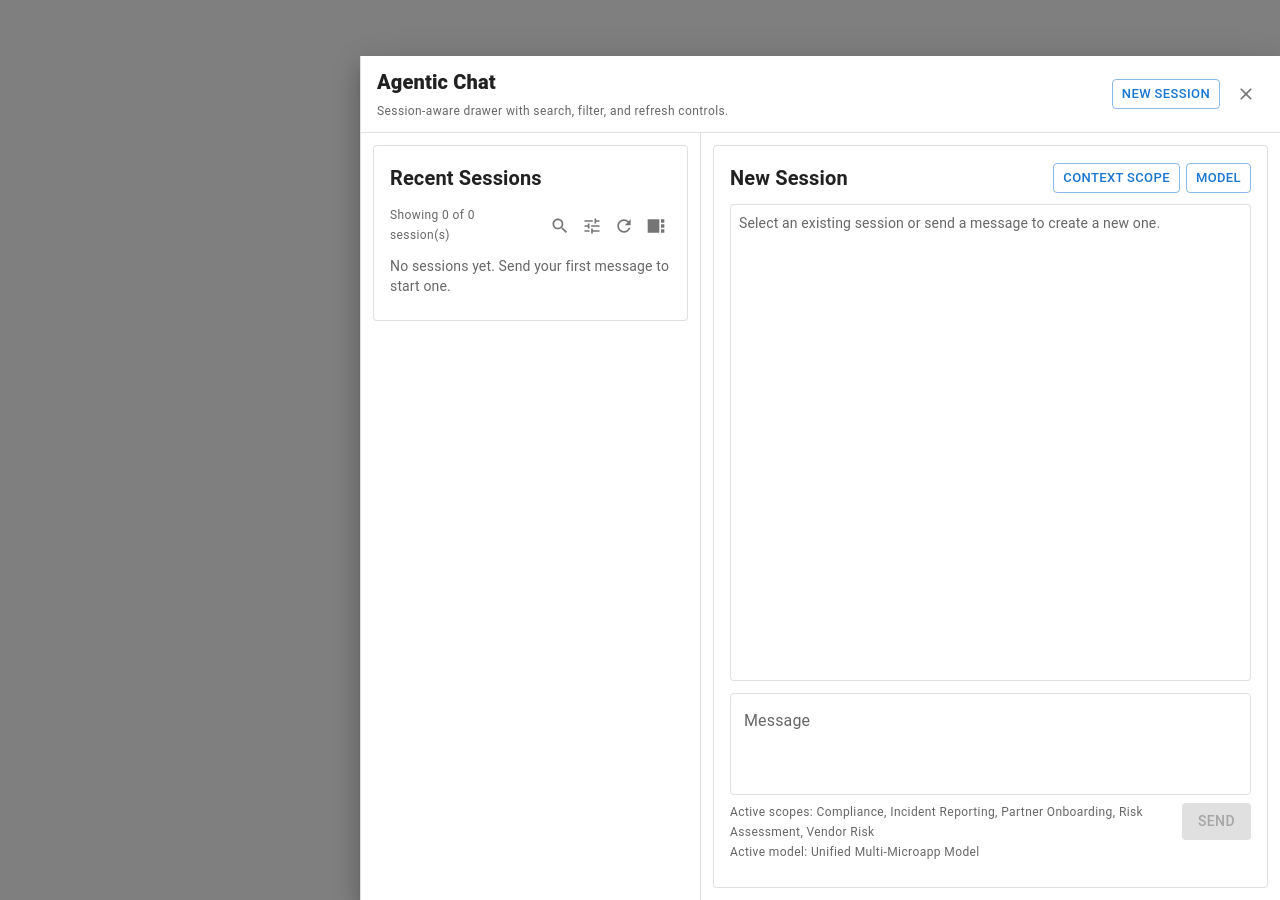
it: AgenticChatPage › hides and restores the recent sessions sidebar
Expected: the heading "Recent Sessions" is shown, [390,162,542,194]
Click the button named "hide recent sessions sidebar". click: (656, 226)
box: [641,211,671,241]
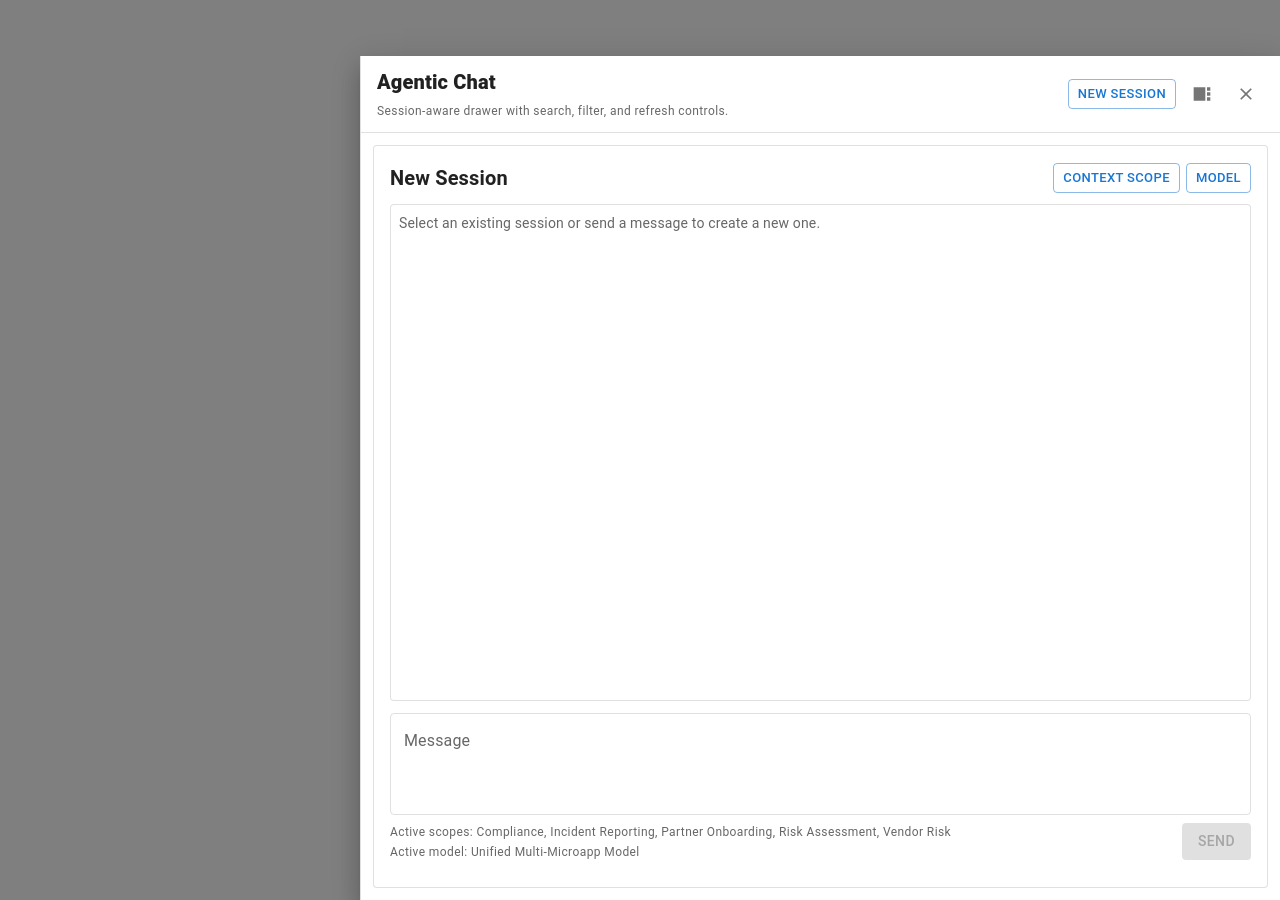
Expected: the heading "Recent Sessions" is gone
Click the button named "show recent sessions sidebar". click: (1202, 94)
box: [1184,76,1220,112]
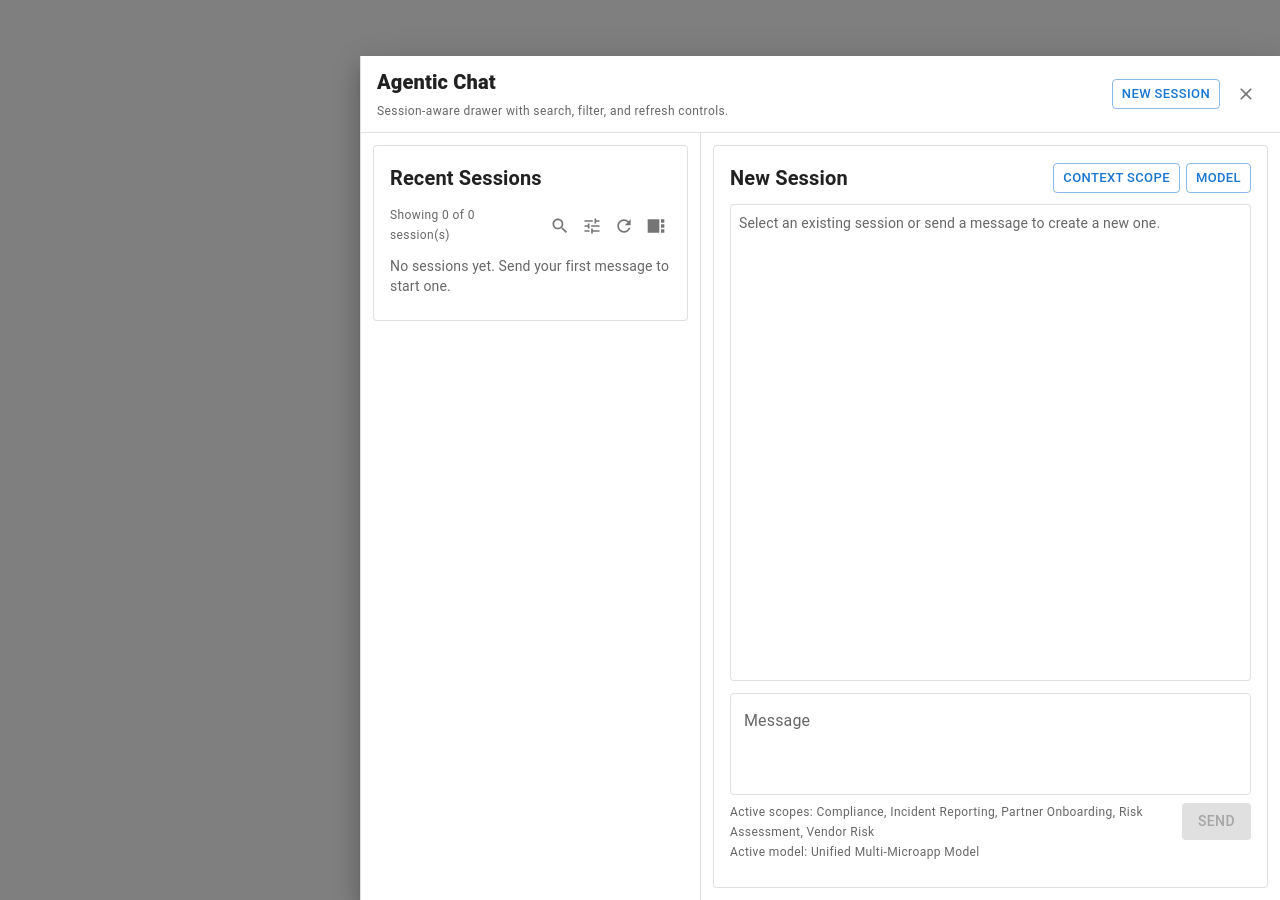
Expected: the heading "Recent Sessions" is shown, [390,162,542,194]
